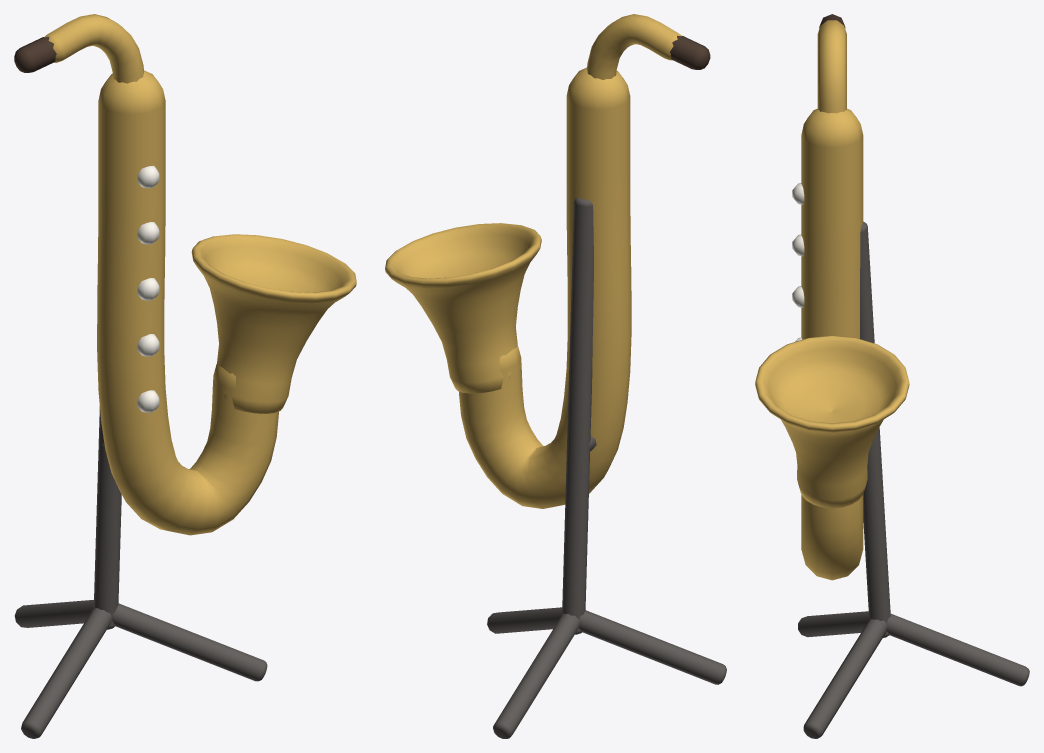
Rendered from saxophone_stand.glb.
The picture shows the model from 3 angles, left to right: view 1: azimuth 30°, elevation 25°; view 2: azimuth 150°, elevation 25°; view 3: azimuth 270°, elevation 25°; orthographic projection. The views are drawn at different scales.
Parts seen in each view (by area): view 1: saxophone_stand_mesh; view 2: saxophone_stand_mesh; view 3: saxophone_stand_mesh.
Part boxes in pixels (box(x1,y1,x2,y2)): saxophone_stand_mesh: box(14, 14, 356, 738); saxophone_stand_mesh: box(385, 14, 726, 738); saxophone_stand_mesh: box(755, 14, 1029, 738).
Size of the model in its own units: 0.4381 by 0.8676 by 0.3381.
